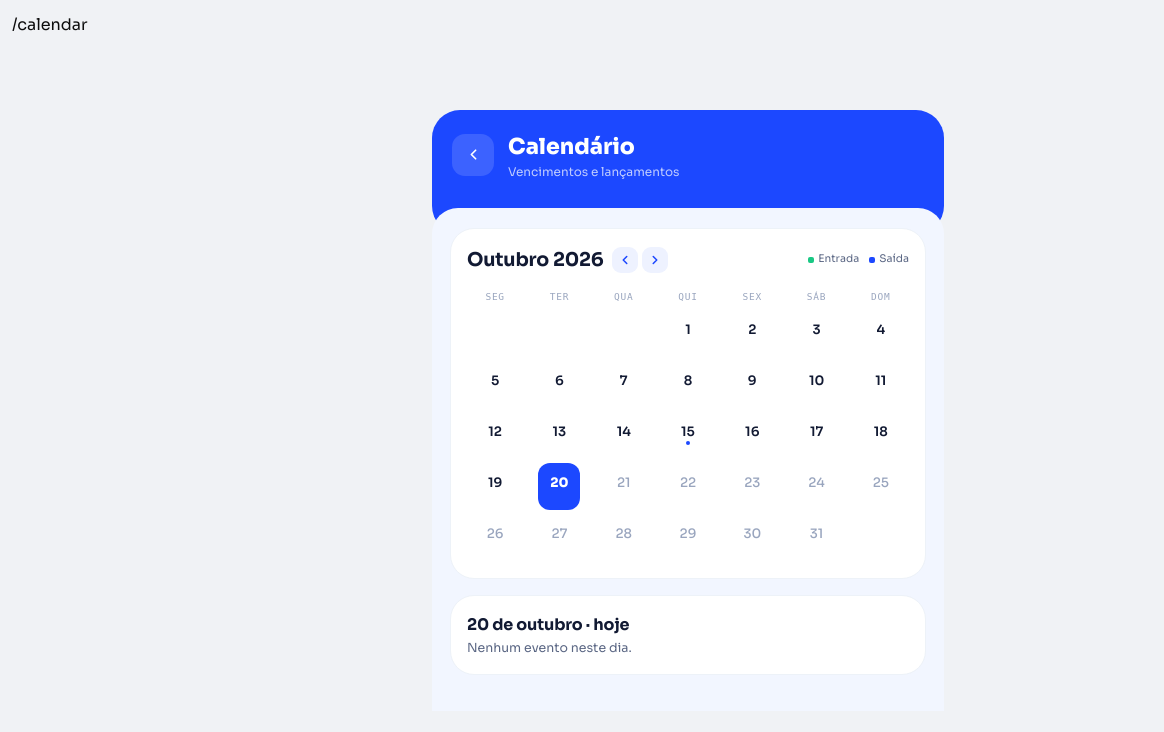
Test: Calendário — mês e dias › conta fixa já paga não aparece também como vencimento › conta pendente continua aparecendo como vencimento
This screenshot has width=1164, height=732.
What coordinates should you click on to do the following:
click the button named "15 de outubro"
I would click on:
 (688, 436)
Its box is [667, 412, 709, 459].
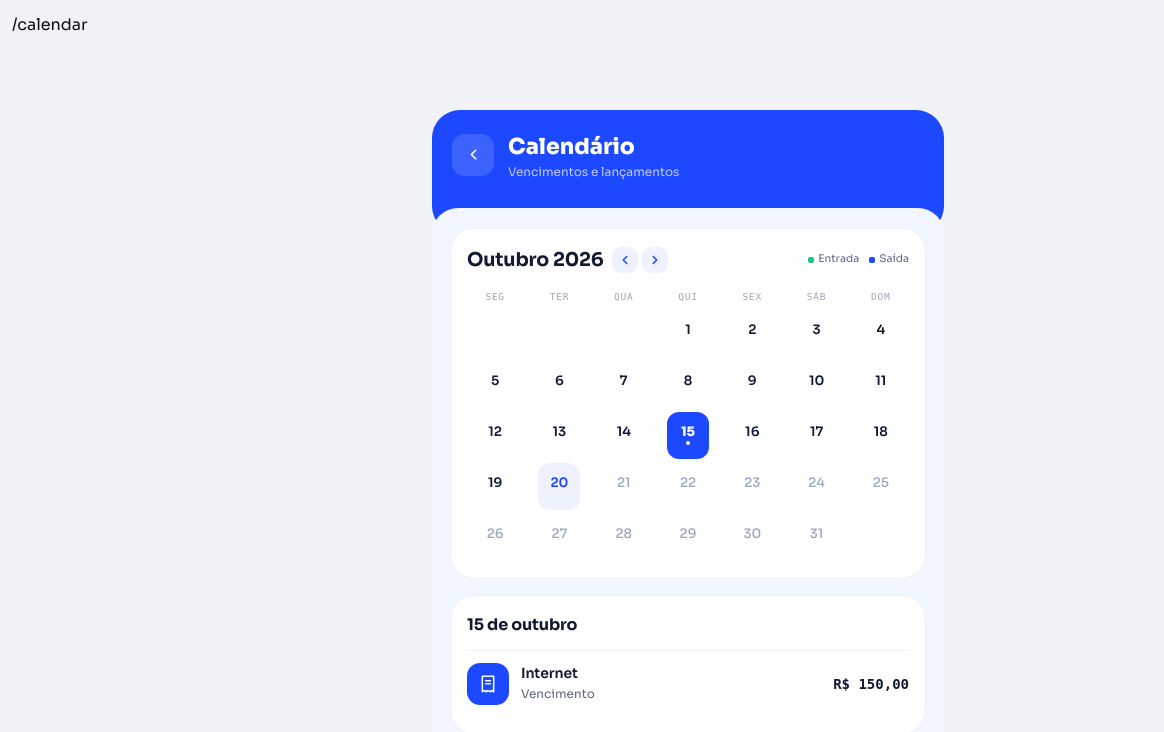
Now the text "Vencimento" is shown, box [521, 686, 595, 701]
